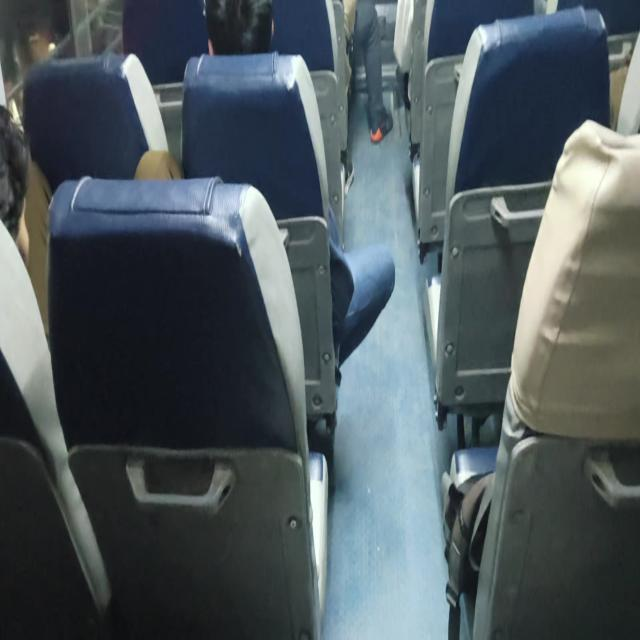person: (133, 0, 395, 376), (342, 0, 393, 144), (0, 102, 30, 265), (204, 0, 274, 55)
